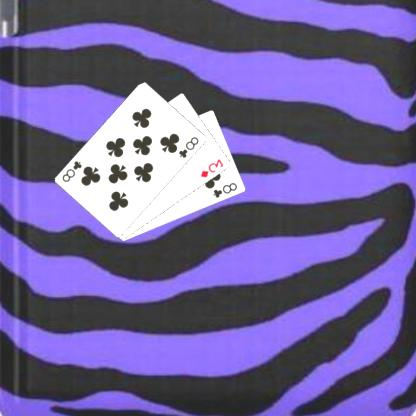3D: (200, 156, 227, 179)
8C: (61, 158, 85, 184), (178, 134, 202, 159), (212, 180, 241, 199)
